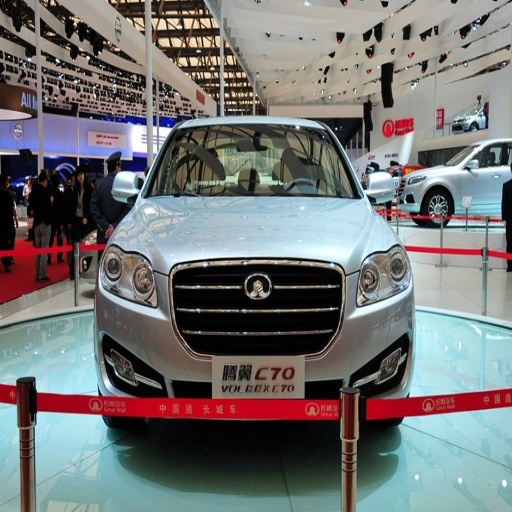front_bumper: (98, 258, 410, 461)
front_right_light: (100, 243, 159, 307)
hood: (117, 196, 392, 271)
